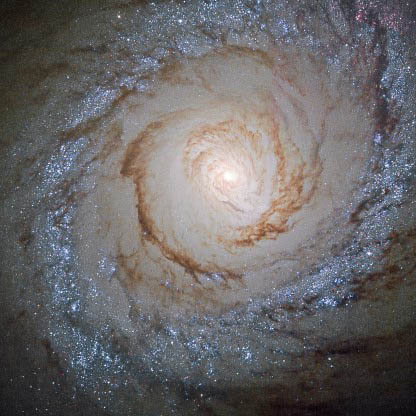Messier 94: (11, 5, 401, 395)
